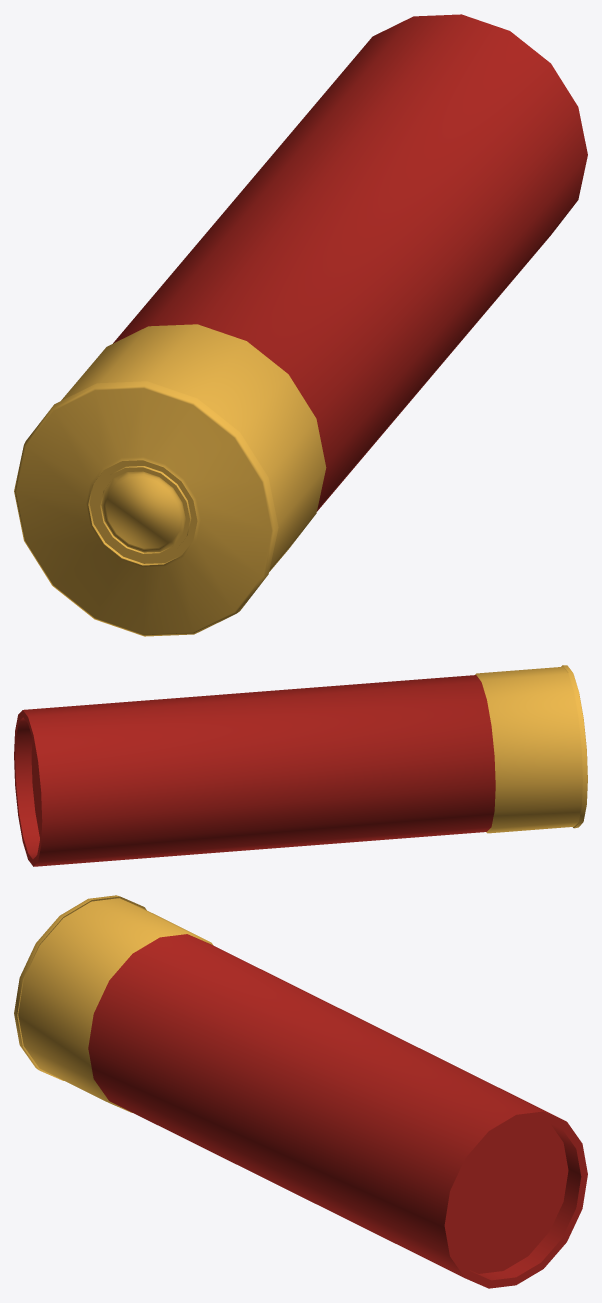
File: low-poly_shotgun_shell.glb
The picture shows the model from 3 angles, top to bottom: view 1: azimuth 30°, elevation 25°; view 2: azimuth 150°, elevation 25°; view 3: azimuth 270°, elevation 25°; orthographic projection. The views are drawn at different scales.
Visible parts, largest first — view 1: Shell_0; view 2: Shell_0; view 3: Shell_0.
Part boxes in pixels (x1,y1,x2,y2): Shell_0: (14,14,587,636); Shell_0: (14,665,587,866); Shell_0: (14,895,587,1288).
Size of the model in its own units: 0.9862 by 0.3075 by 0.9011.
